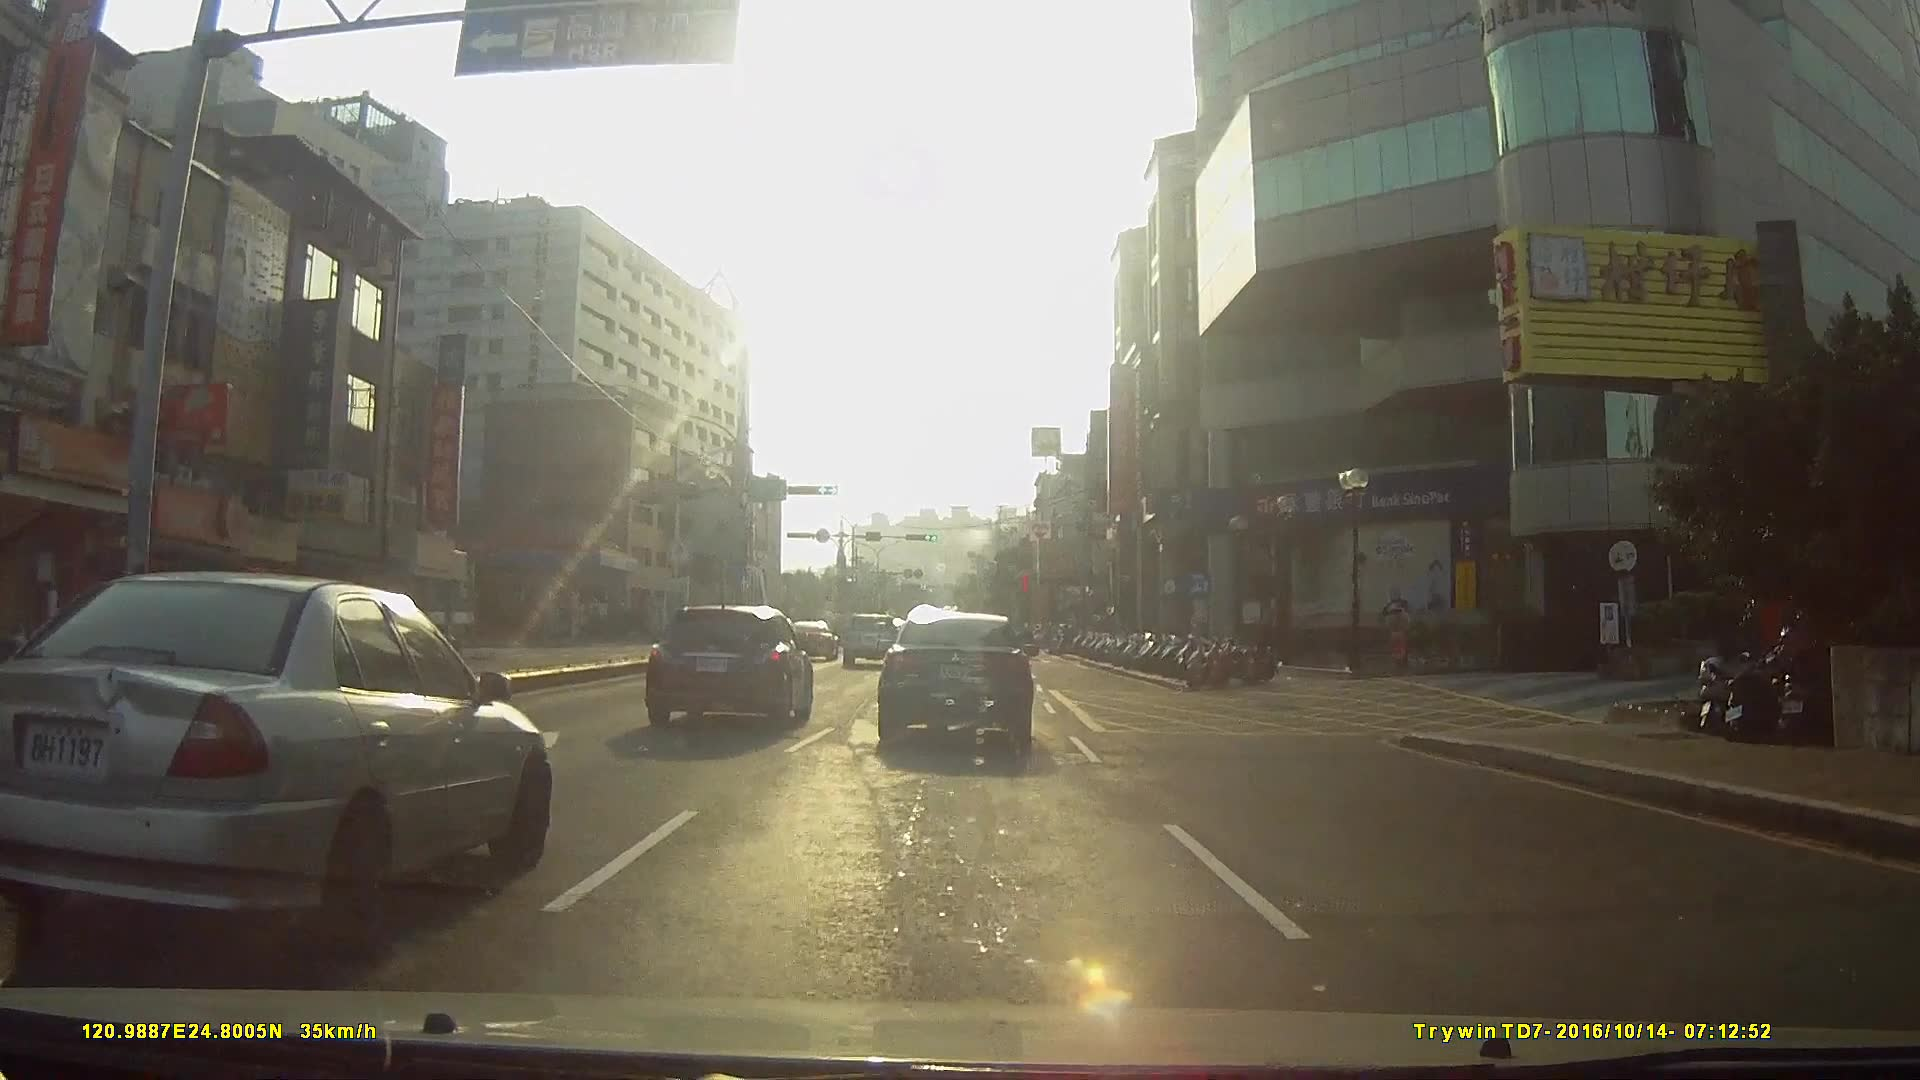pedestrian: (1380, 596, 1415, 680)
vehicle: (0, 567, 544, 961), (875, 604, 1035, 751), (641, 600, 813, 733), (836, 613, 898, 673), (782, 616, 834, 659)
